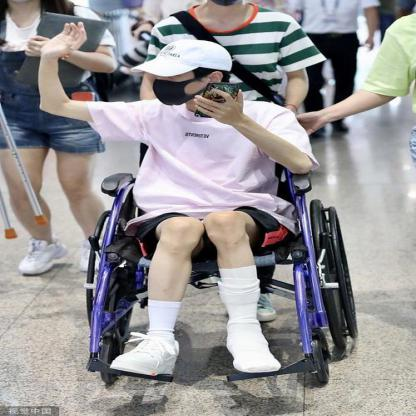wheelchair: (41, 39, 365, 392)
